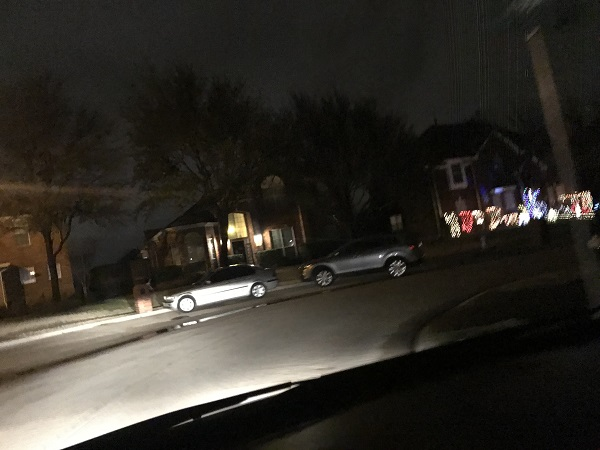car: (298, 233, 429, 287), (159, 263, 273, 309)
